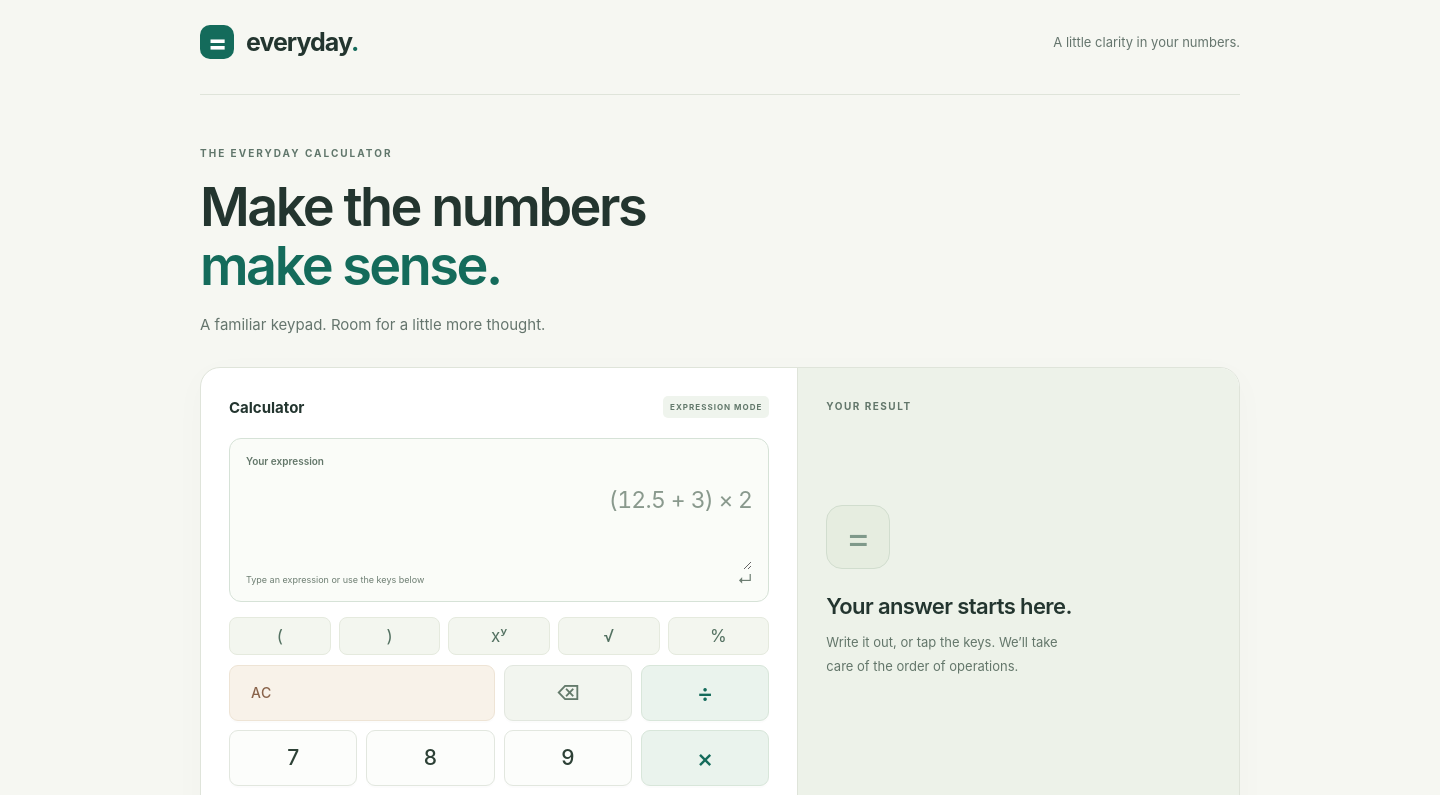
it: expression calculator › shows specific backend error details against the normalized expression
Type ")1+()" into the text box labelled "Your expression".
click(499, 519); type(")1+()")  # box [246,467,752,570]
(page scrolled)
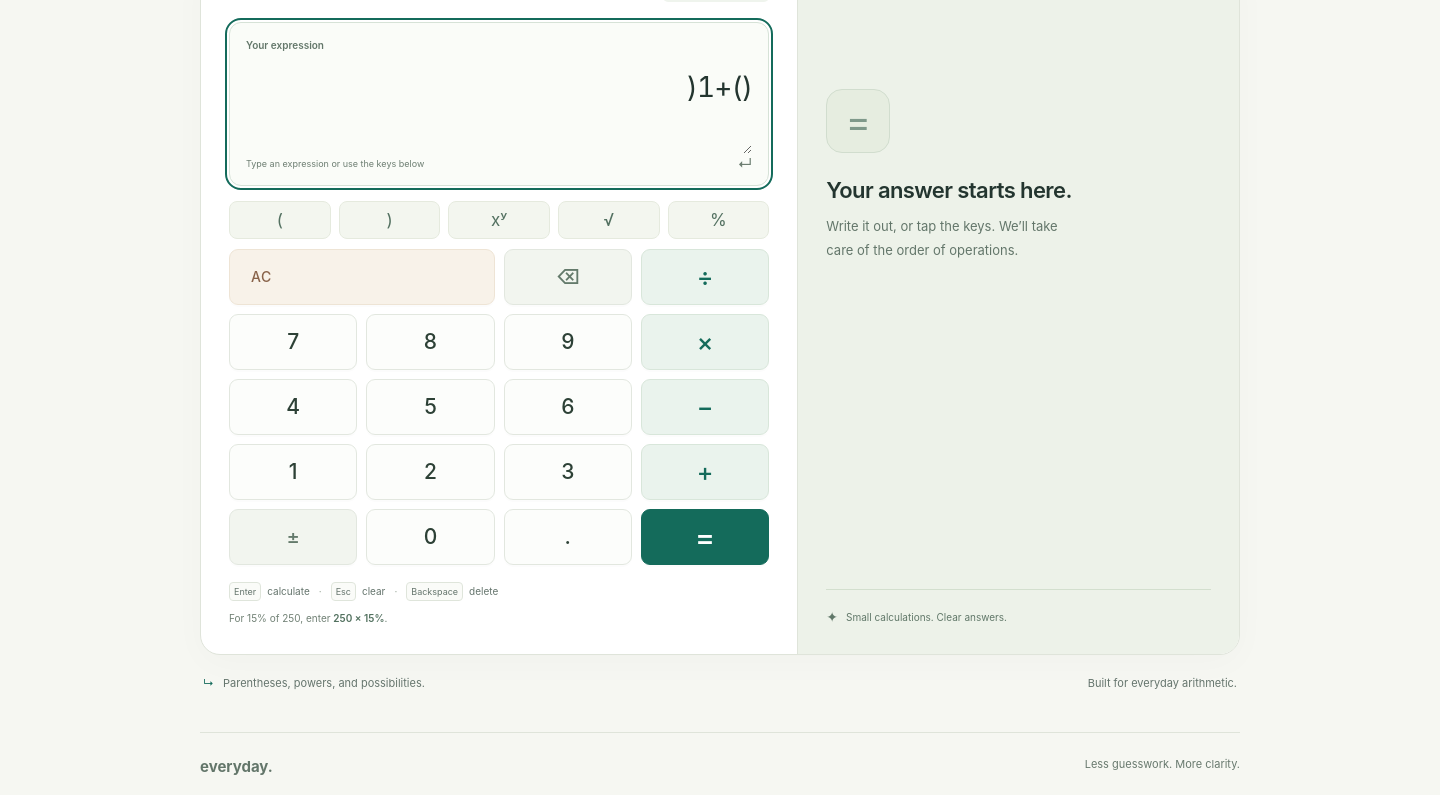
Click the button named "Calculate".
click(705, 537)  # box [641,509,769,565]
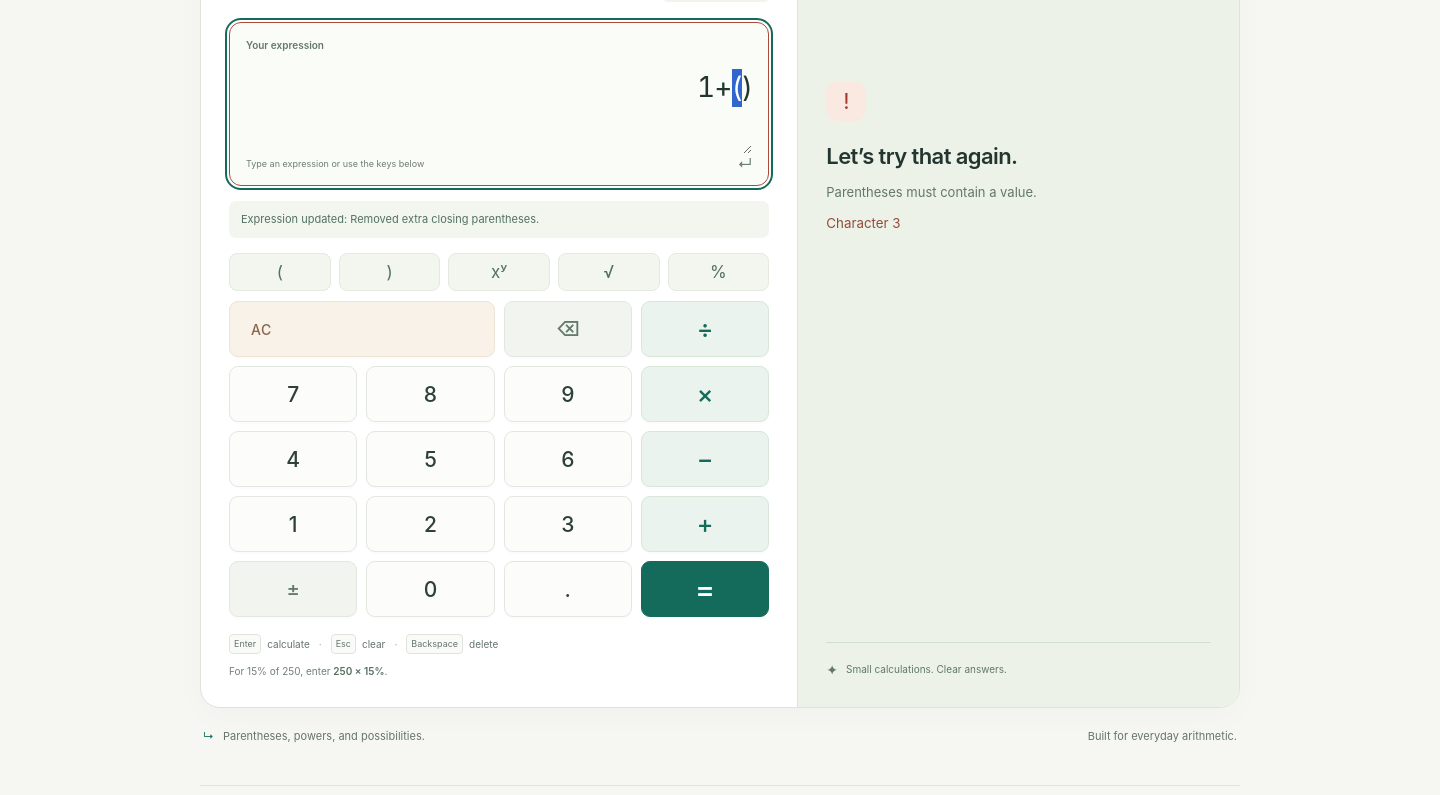
Check: the text box labelled "Your expression" holds "1+()", box [246,51,752,154]
Check: the message "! Let’s try that again. Parentheses must contain a value. Character 3" is shown, box [826,81,1037,231]
